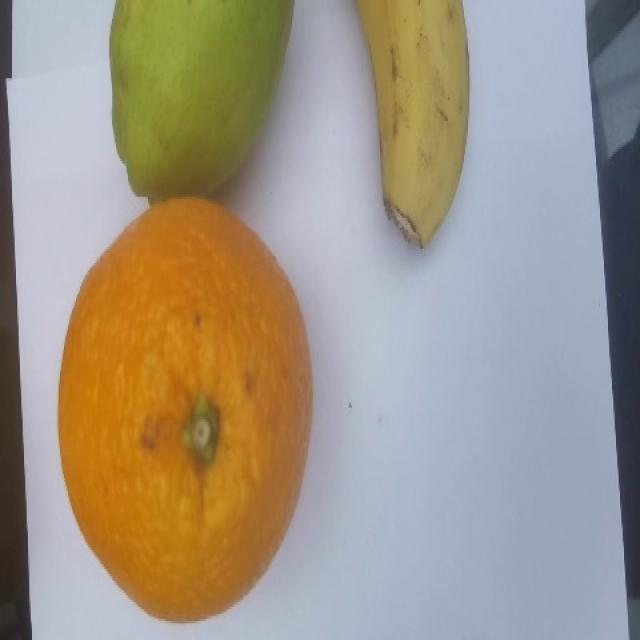Banana: (352, 0, 472, 250)
Orange: (56, 191, 313, 628)
